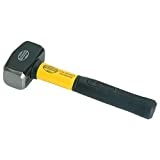hammer: (5, 40, 157, 120)
